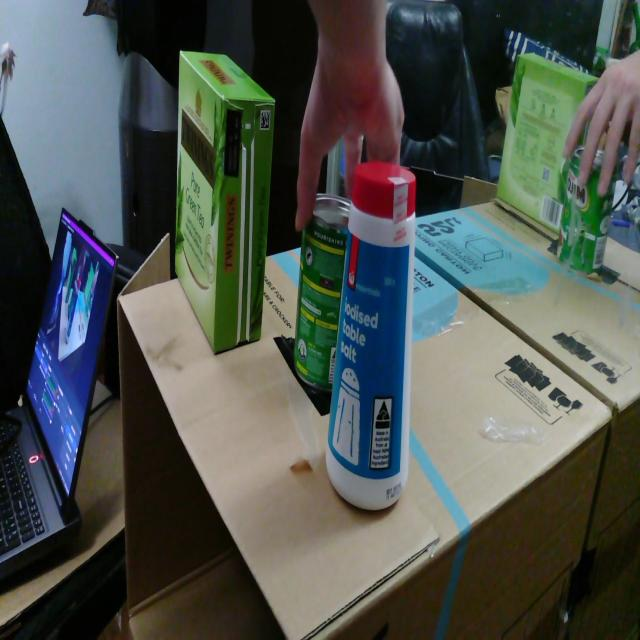nestle_milo_tin: (294, 194, 351, 390)
twinings_greentea_box: (175, 52, 275, 353)
woolworths_salt_bottle: (326, 161, 416, 510)
